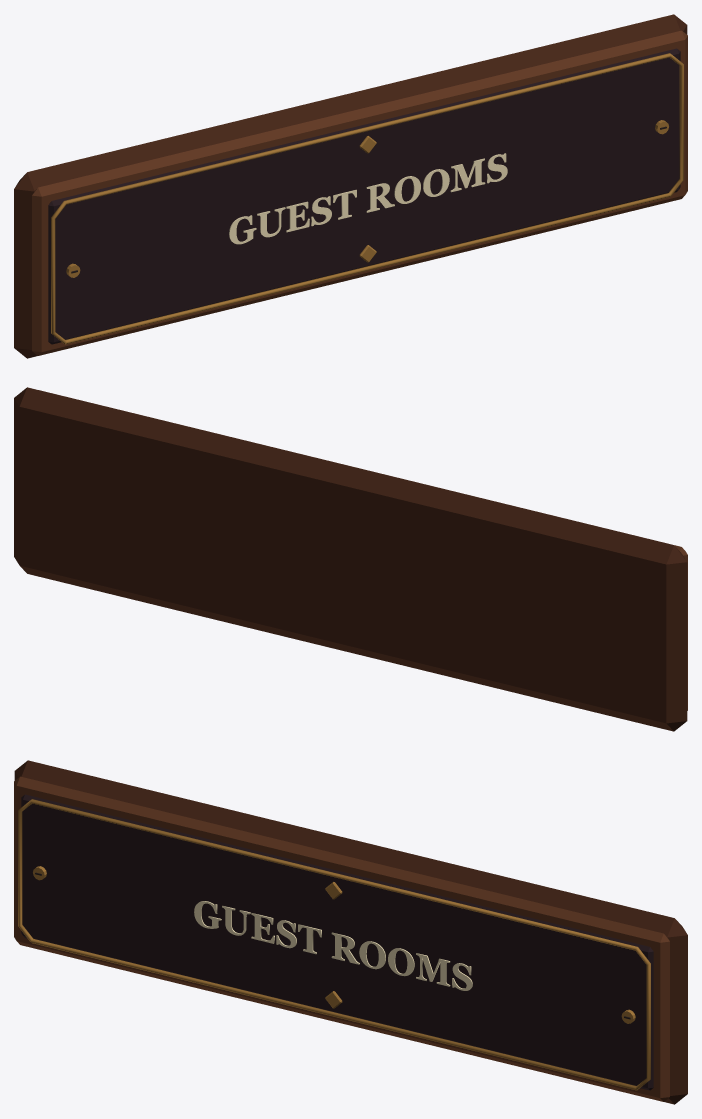
File: GuestRoomsSign.glb
The picture shows the model from 3 angles, top to bottom: view 1: azimuth 30°, elevation 25°; view 2: azimuth 150°, elevation 25°; view 3: azimuth 330°, elevation 25°; orthographic projection.
Parts seen in each view (by area): view 1: DarkEnamelInset.004, RaisedOakBorder.004, CarvedOakPlaque.004, BrassOutline.004, IvorySerifLettering.004; view 2: CarvedOakPlaque.004; view 3: DarkEnamelInset.004, RaisedOakBorder.004, CarvedOakPlaque.004, BrassOutline.004, IvorySerifLettering.004.
Part boxes in pixels (<box>): DarkEnamelInset.004: <box>48,48,680,344</box>; RaisedOakBorder.004: <box>32,30,687,355</box>; CarvedOakPlaque.004: <box>14,14,687,358</box>; BrassOutline.004: <box>51,53,683,344</box>; IvorySerifLettering.004: <box>229,153,507,244</box>; CarvedOakPlaque.004: <box>14,387,687,731</box>; DarkEnamelInset.004: <box>21,794,653,1090</box>; RaisedOakBorder.004: <box>14,776,669,1101</box>; CarvedOakPlaque.004: <box>14,760,687,1104</box>; BrassOutline.004: <box>18,799,650,1090</box>; IvorySerifLettering.004: <box>194,901,472,990</box>.
Bounding box in the file's own units: 5.1 × 1.35 × 0.346.
